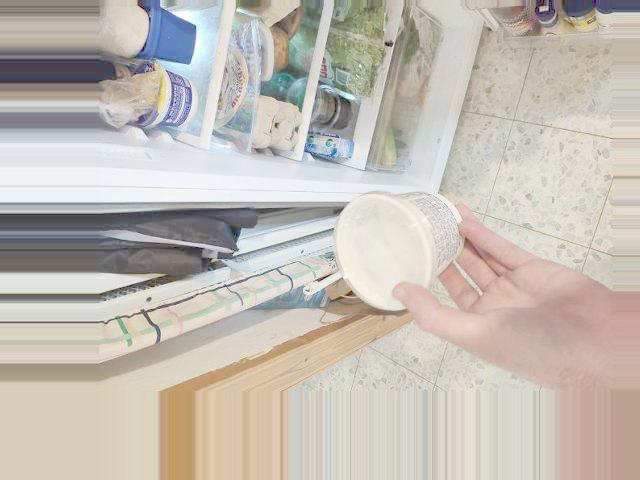cotage: (335, 197, 454, 298)
